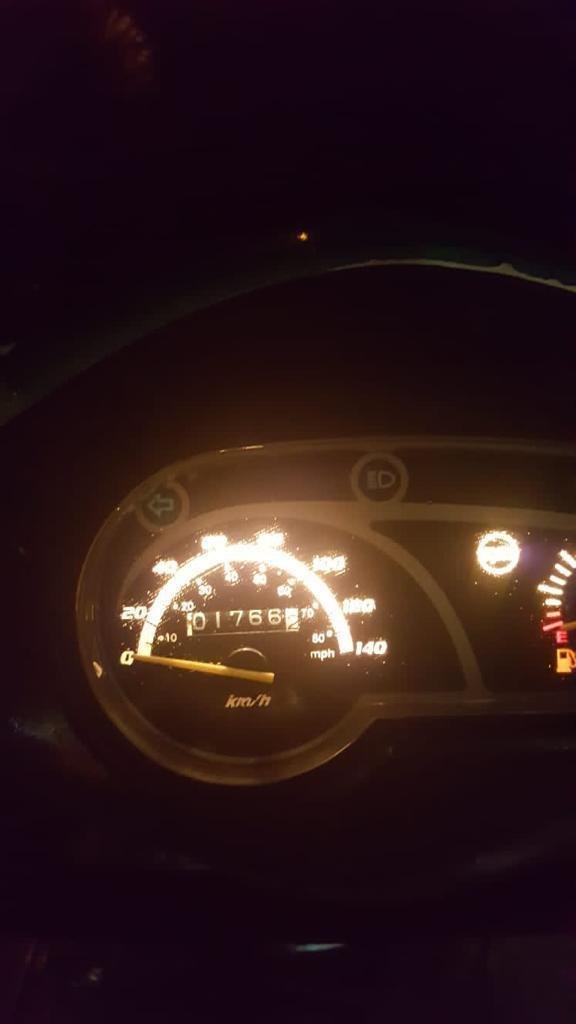0: (192, 610, 207, 631)
1: (212, 606, 223, 631)
2: (288, 612, 300, 632)
6: (248, 607, 263, 627), (267, 609, 283, 627)
7: (228, 608, 244, 628)
odometer: (184, 606, 301, 636)
